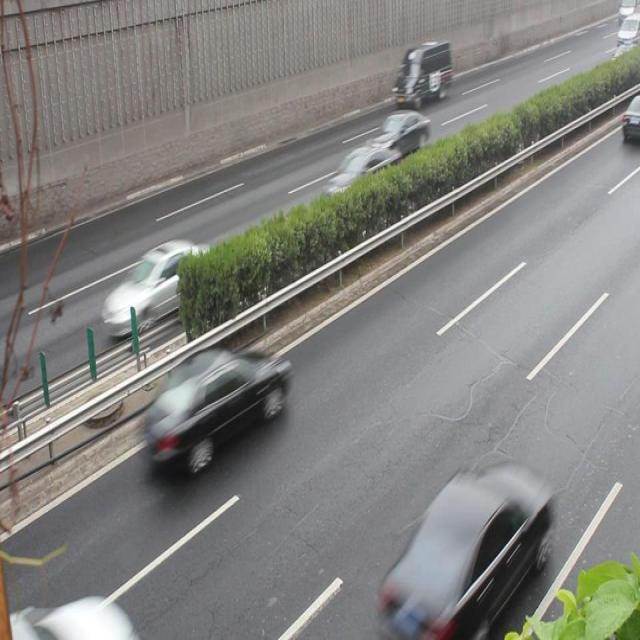car: (386, 457, 544, 624), (142, 348, 290, 470), (100, 241, 227, 341), (322, 148, 404, 212), (358, 109, 427, 161)
truck: (392, 42, 450, 106)
